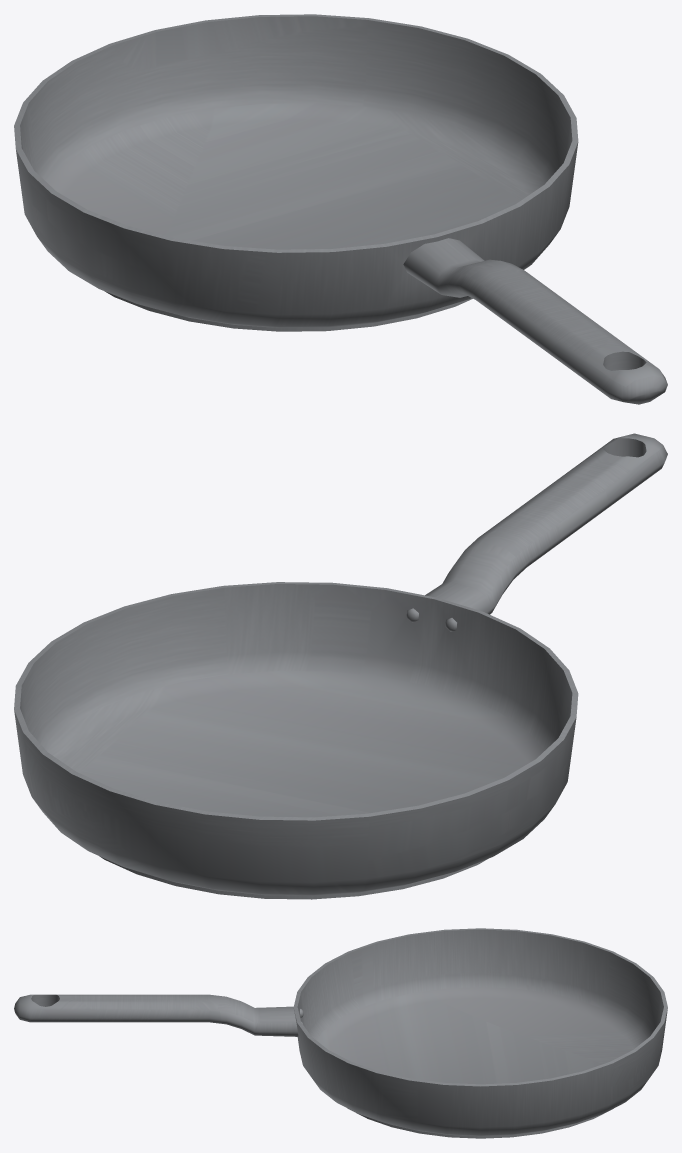
File: frying_pan.obj
3 views of the same model, one above another, from view 1: azimuth 30°, elevation 25°; view 2: azimuth 150°, elevation 25°; view 3: azimuth 270°, elevation 25° (orthographic). The views are drawn at different scales.
Parts seen in each view (by area): view 1: Fry_pan; view 2: Fry_pan; view 3: Fry_pan.
Boxes of the visible parts, box(x1,y1,x2,y2) form: Fry_pan: box(14, 14, 667, 404); Fry_pan: box(14, 433, 667, 899); Fry_pan: box(14, 928, 667, 1138).
Bounding box in the file's own units: 29.74 × 6.35 × 51.96.
1 material, 1 textured.
